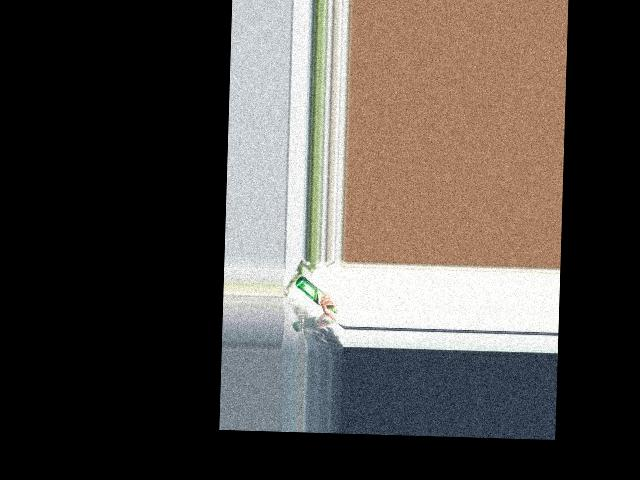beer: (294, 276, 338, 314)
